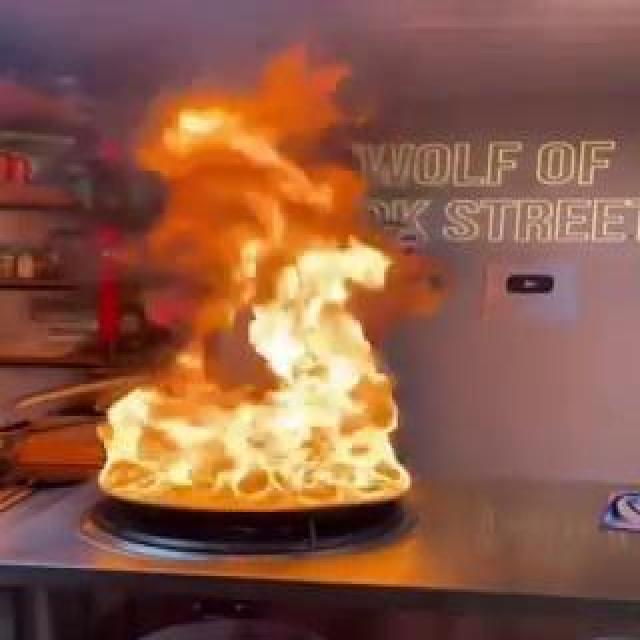Fire: (61, 153, 419, 519)
